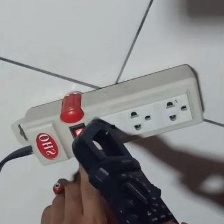three_eye_plug: (10, 61, 208, 169)
